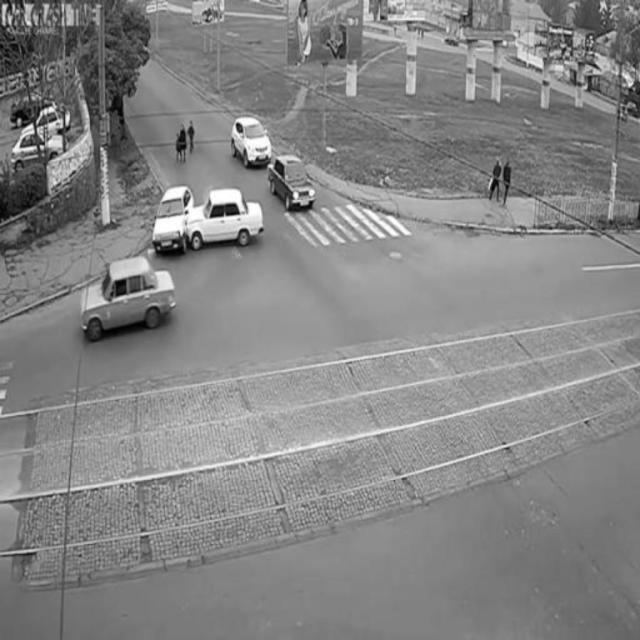accident: (150, 185, 268, 253)
person: (485, 152, 519, 210), (173, 118, 200, 158)
vehicle: (77, 258, 173, 346), (265, 149, 321, 207), (228, 114, 273, 169), (11, 130, 63, 164)
